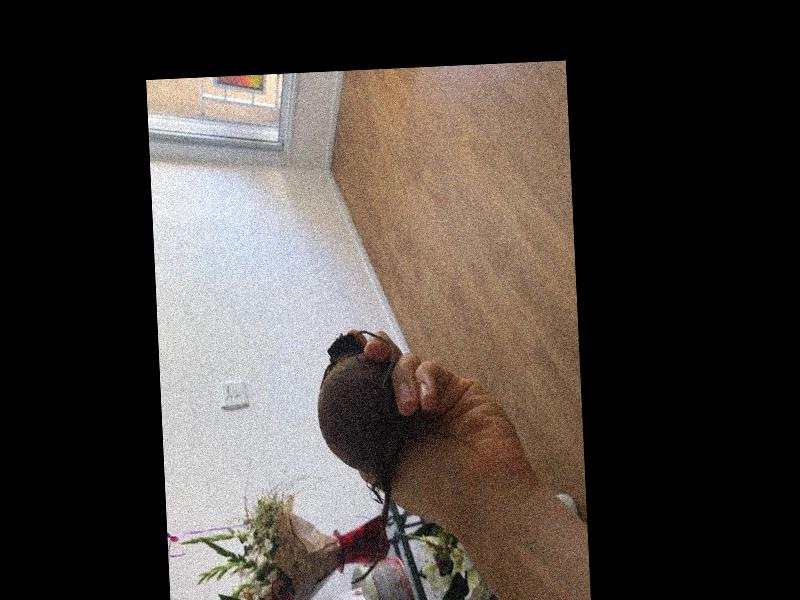Beet: (314, 328, 412, 584)
